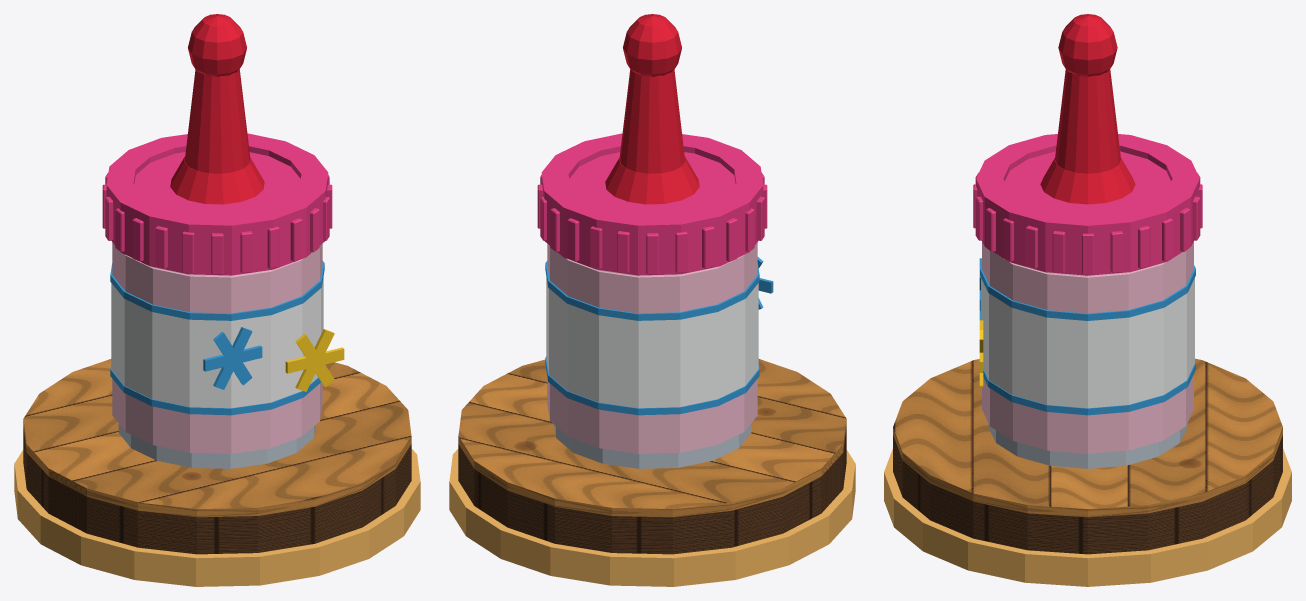
Rendered from SourFizz.glb.
The picture shows the model from 3 angles, left to right: view 1: azimuth 30°, elevation 25°; view 2: azimuth 150°, elevation 25°; view 3: azimuth 270°, elevation 25°; orthographic projection.
Visible parts, largest first — view 1: SourFizz, pedestal, rim; view 2: SourFizz, pedestal, rim; view 3: SourFizz, pedestal, rim.
Part boxes in pixels (x1,y1,x2,y2): SourFizz: (102, 14, 344, 468); pedestal: (23, 359, 411, 554); rim: (14, 449, 420, 586); SourFizz: (537, 14, 773, 468); pedestal: (458, 359, 846, 554); rim: (449, 449, 855, 586); SourFizz: (973, 14, 1202, 468); pedestal: (893, 358, 1282, 554); rim: (884, 449, 1291, 586).
Bounding box in the file's own units: 0.9 × 1.18 × 0.9.
10 materials, 2 textured.
